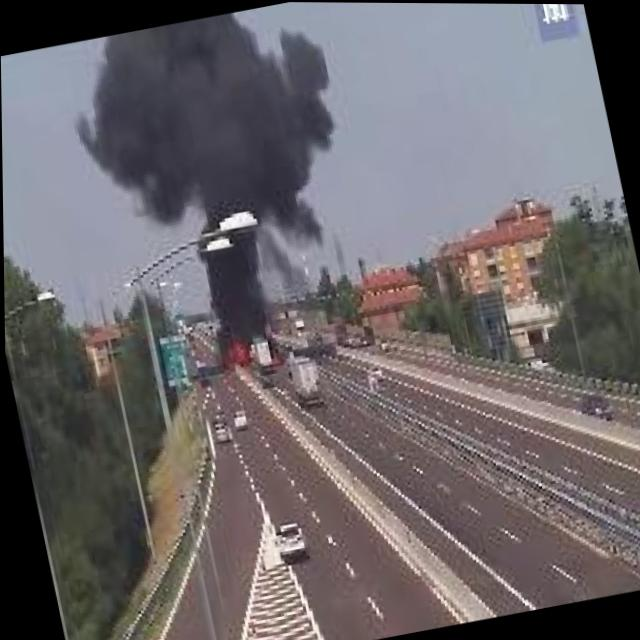fire: (209, 320, 281, 380)
